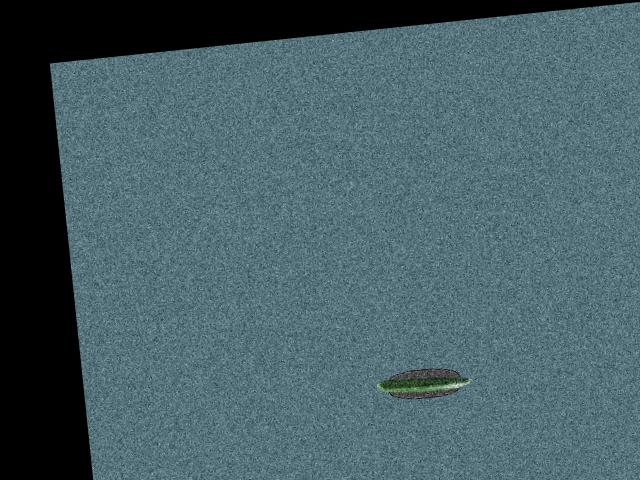cucumber: (376, 370, 472, 396)
